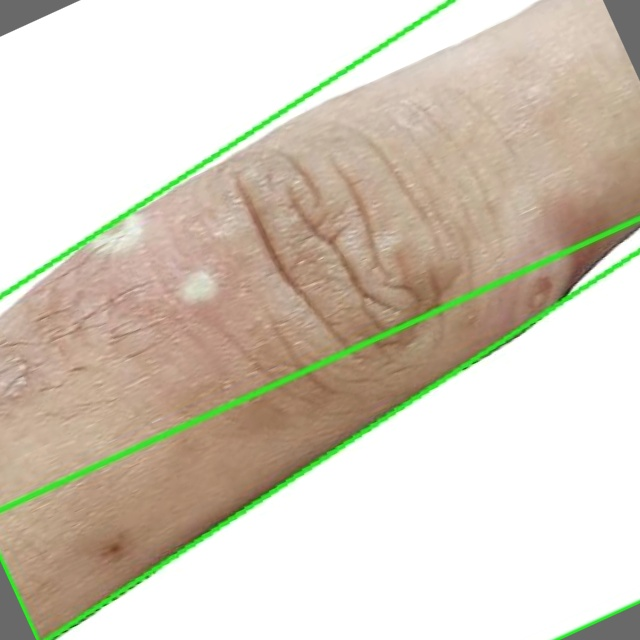Scabies: (0, 0, 639, 639), (0, 218, 639, 639)
